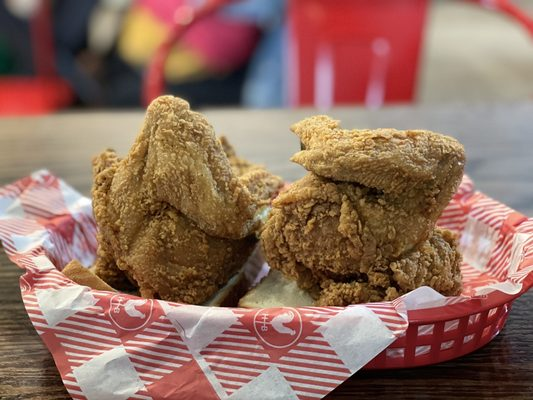pizza: (283, 0, 434, 112)
